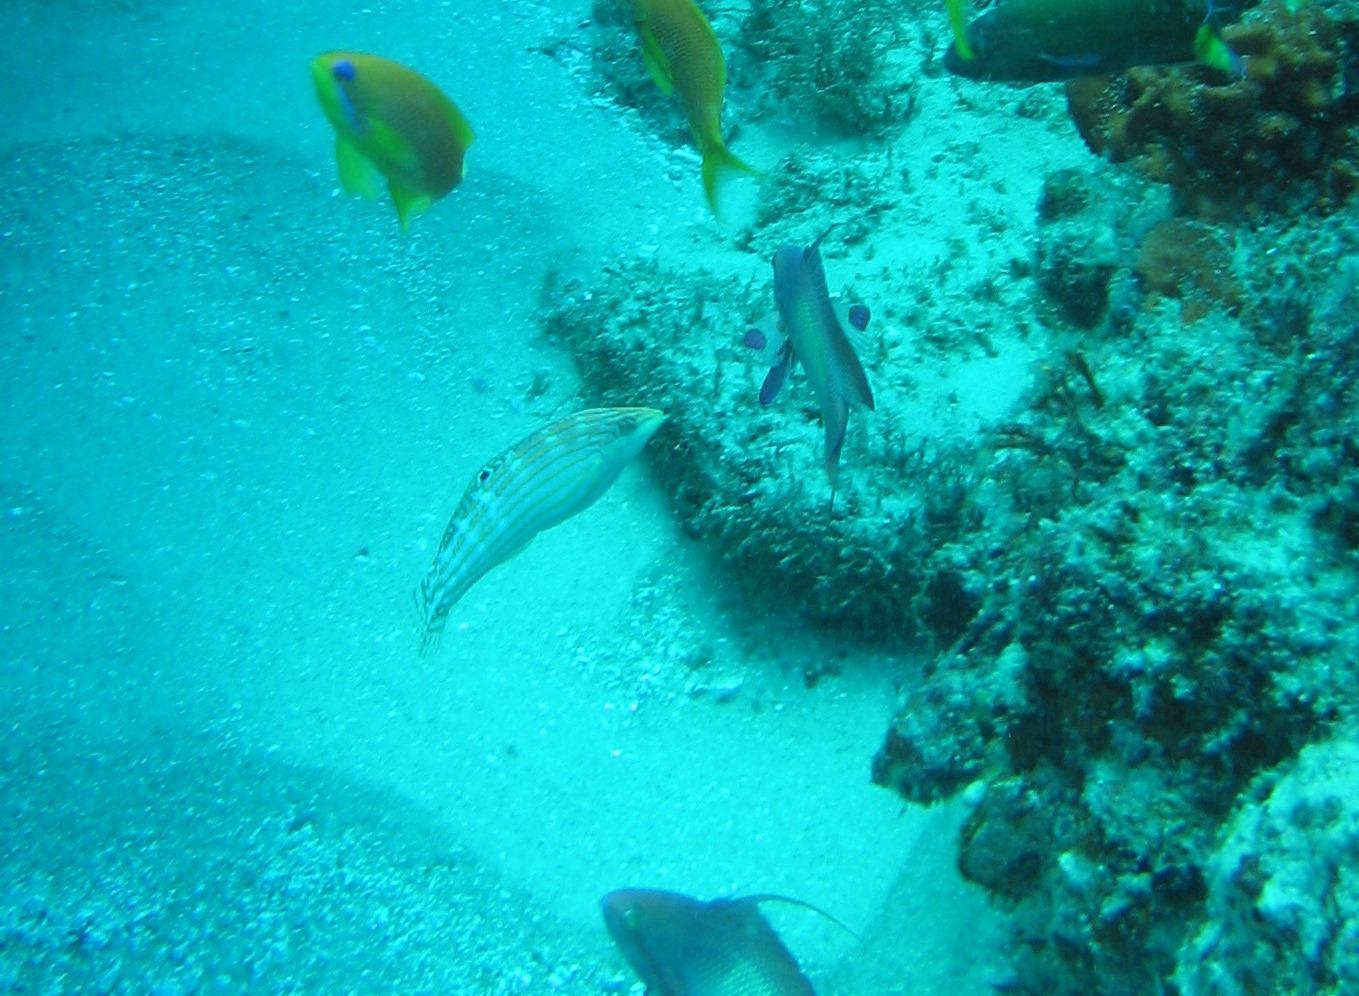Fish: (385, 279, 936, 523)
